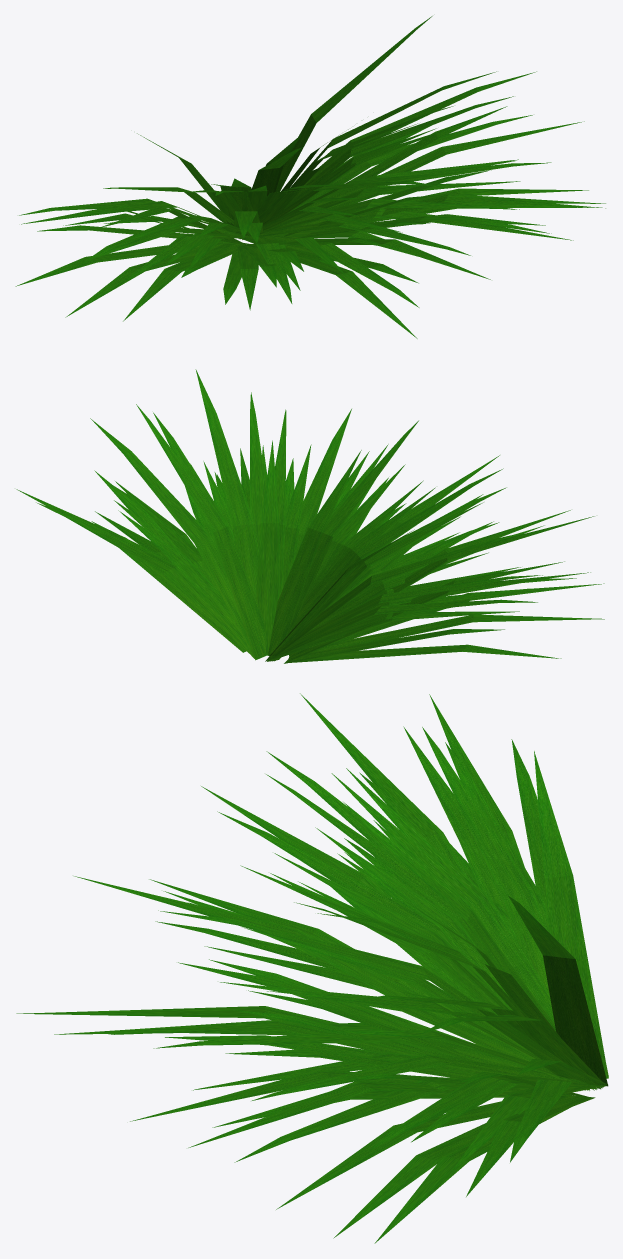
File: Grass_green.fbx
The picture shows the model from 3 angles, top to bottom: view 1: azimuth 30°, elevation 25°; view 2: azimuth 150°, elevation 25°; view 3: azimuth 270°, elevation 25°; orthographic projection. The views are drawn at different scales.
Parts seen in each view (by area): view 1: Object; view 2: Object; view 3: Object.
Part boxes in pixels (x1,y1,x2,y2): Object: (15, 16, 605, 338); Object: (16, 369, 604, 663); Object: (16, 693, 608, 1243).
Size of the model in its own units: 1.75 by 0.5801 by 1.02.
Materials: 1 (1 with a texture image).
